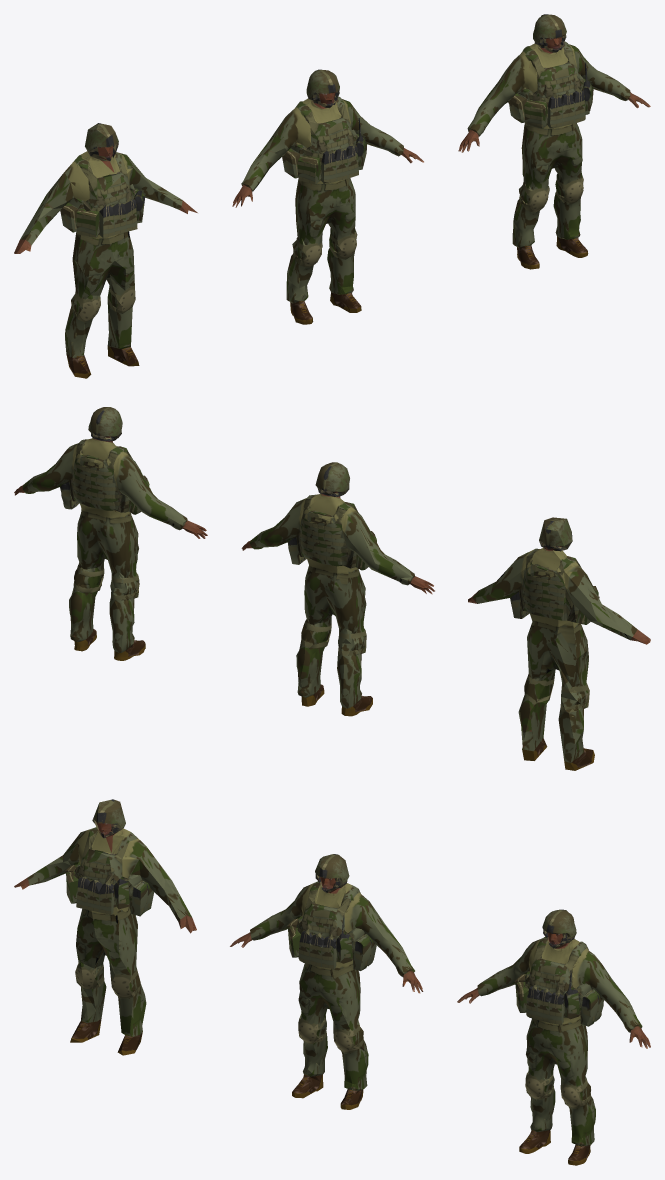
3 views of the same model, one above another, from view 1: azimuth 30°, elevation 25°; view 2: azimuth 150°, elevation 25°; view 3: azimuth 330°, elevation 25° (orthographic).
Visible parts, largest first — view 1: soldier1_low.001, soldier1_low.002, soldier1_low.003; view 2: soldier1_low.001, soldier1_low.002, soldier1_low.003; view 3: soldier1_low.001, soldier1_low.002, soldier1_low.003.
Part boxes in pixels (x1=…): soldier1_low.001: x1=458, y1=14, x2=650, y2=269; soldier1_low.002: x1=232, y1=69, x2=423, y2=324; soldier1_low.003: x1=14, y1=123, x2=197, y2=378; soldier1_low.001: x1=14, y1=407, x2=207, y2=660; soldier1_low.002: x1=241, y1=462, x2=434, y2=716; soldier1_low.003: x1=468, y1=517, x2=650, y2=770; soldier1_low.001: x1=457, y1=909, x2=650, y2=1165; soldier1_low.002: x1=230, y1=854, x2=423, y2=1109; soldier1_low.003: x1=14, y1=799, x2=196, y2=1055.
Size of the model in its own units: 24.85 by 9.01 by 2.21.
Materials: 1 (1 with a texture image).
